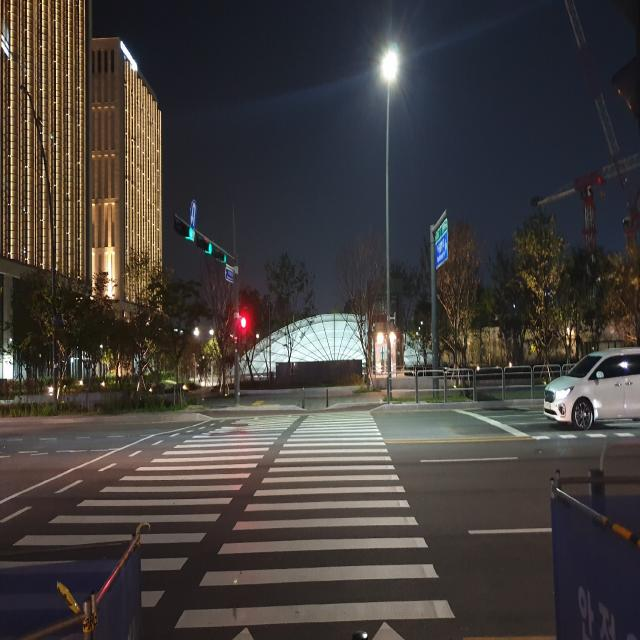빨간불: (240, 313, 250, 343)
횡단보도: (0, 407, 458, 640)
